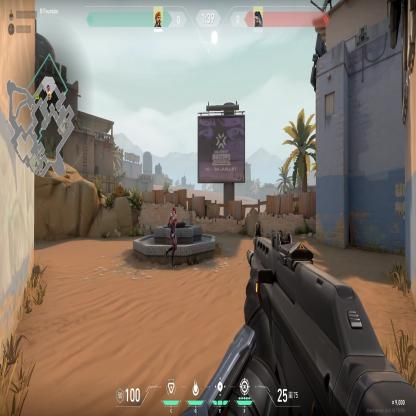enemy: (164, 206, 178, 270)
